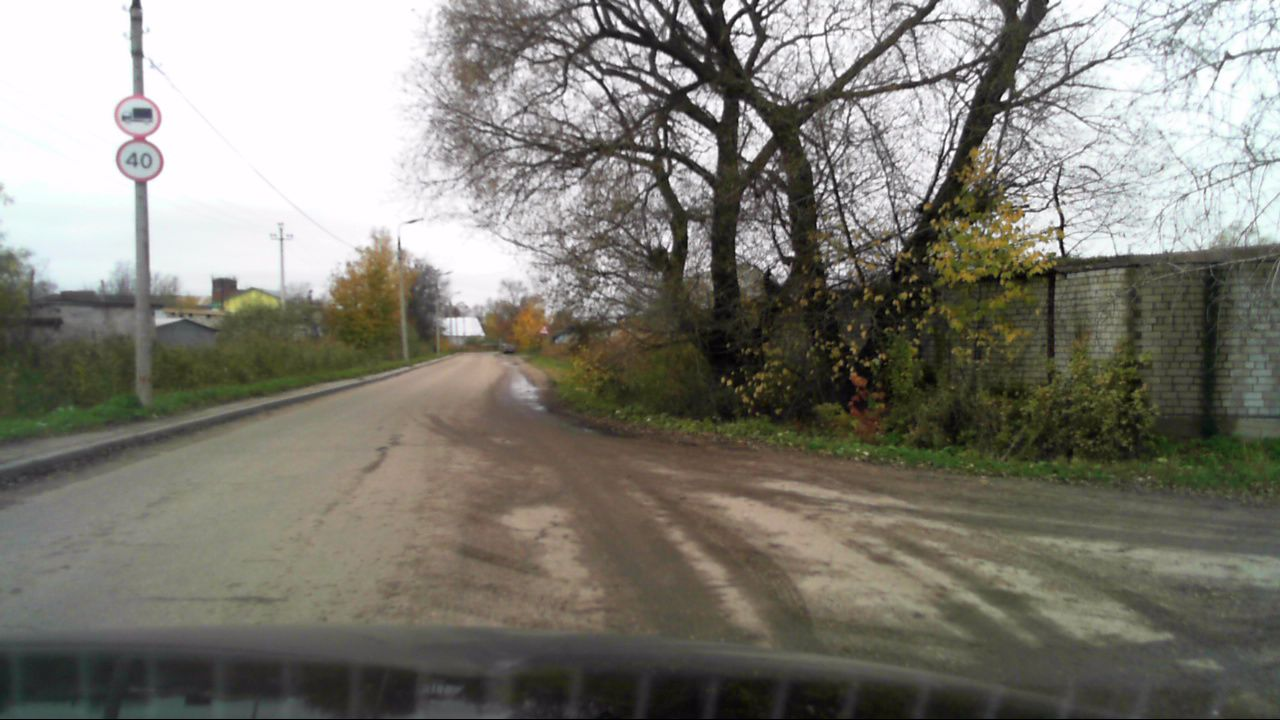speed_warning_40: (116, 141, 163, 182)
